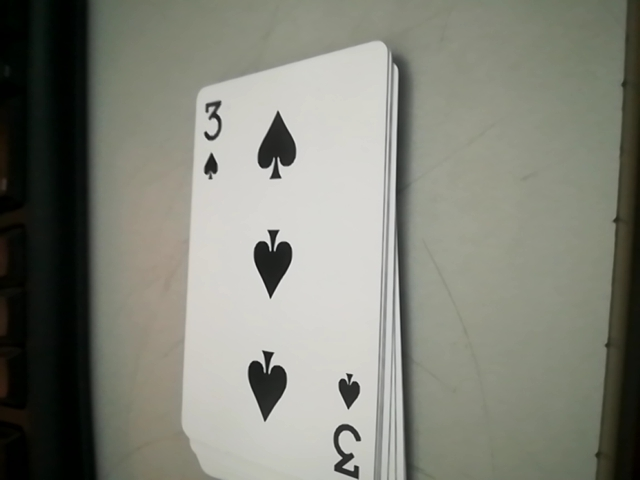ht 3: (193, 91, 234, 192)
